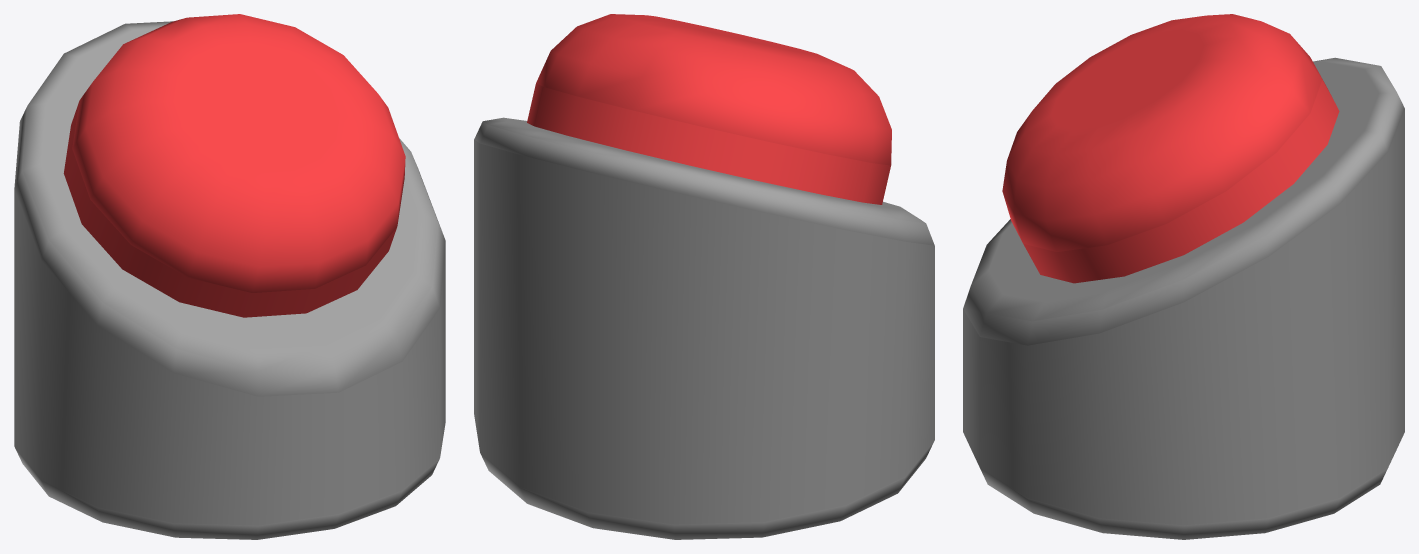
Rendered from Button_Small_Angled.fbx.
3 renders of one model, left to right at view 1: azimuth 30°, elevation 25°; view 2: azimuth 150°, elevation 25°; view 3: azimuth 270°, elevation 25°, orthographic. The views are drawn at different scales.
Parts seen in each view (by area): view 1: Button_Small_Angled, Button_Top; view 2: Button_Small_Angled, Button_Top; view 3: Button_Small_Angled, Button_Top.
Boxes of the visible parts, left/top/right/bottom form: Button_Small_Angled: left=14, top=21, right=445, bottom=539; Button_Top: left=63, top=14, right=405, bottom=317; Button_Small_Angled: left=474, top=117, right=934, bottom=539; Button_Top: left=527, top=14, right=891, bottom=204; Button_Small_Angled: left=963, top=57, right=1404, bottom=539; Button_Top: left=1002, top=14, right=1339, bottom=283.
Bounding box in the file's own units: 23.4 × 24.58 × 23.4.
